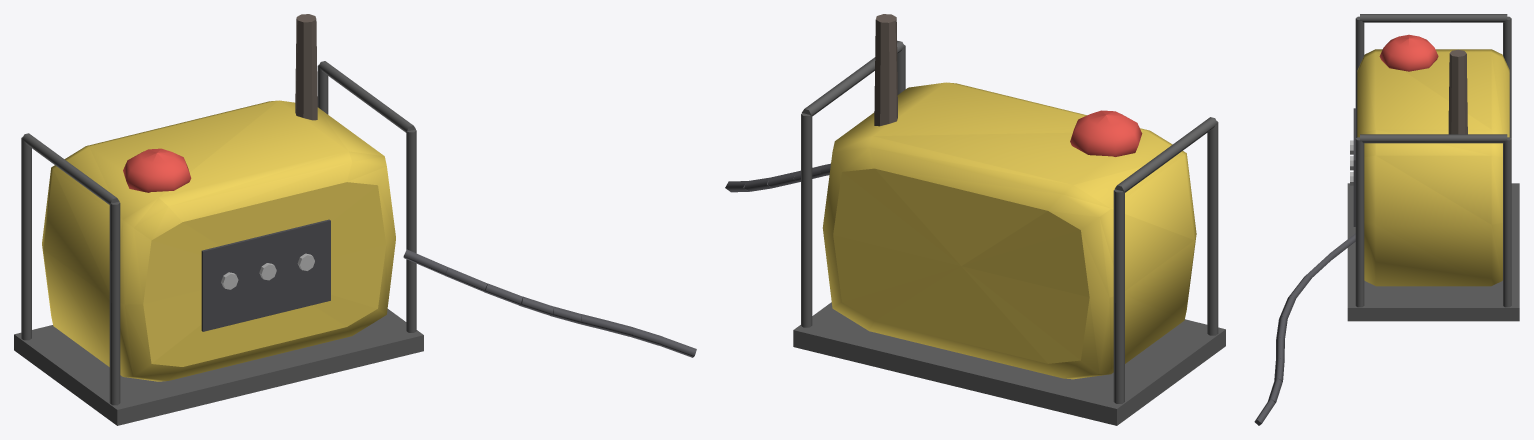
File: festival_generator_a.glb
3 views of the same model, side by side, from view 1: azimuth 30°, elevation 25°; view 2: azimuth 150°, elevation 25°; view 3: azimuth 270°, elevation 25° (orthographic). The views are drawn at different scales.
Visible parts, largest first — view 1: body; view 2: body; view 3: body.
Boxes of the visible parts, x1,y1,x2,y2 form: body: (14,14,696,425); body: (725,14,1225,425); body: (1254,14,1519,425).
Size of what is drawn, in the model's own units: 2.06 by 1.19 by 1.08.
